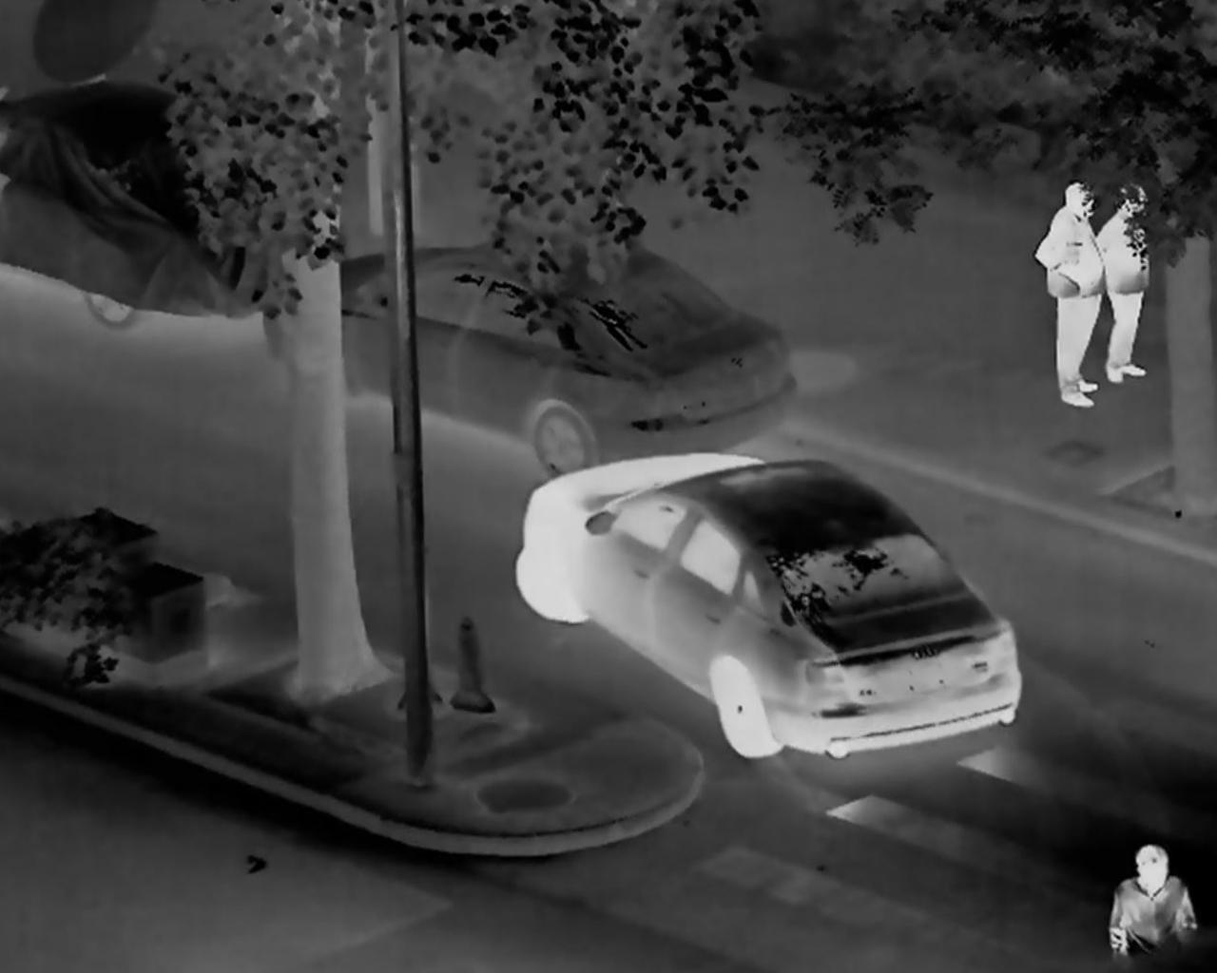person: (1028, 181, 1106, 407), (1103, 845, 1200, 973), (1094, 184, 1150, 381)
